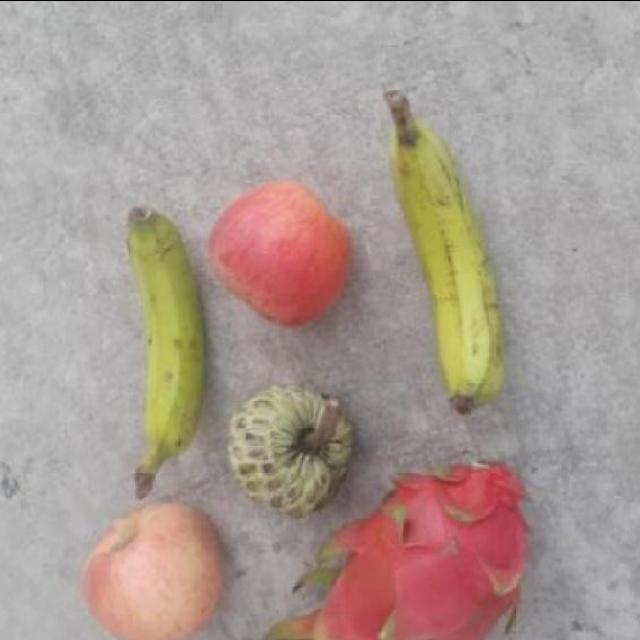apple: (208, 175, 354, 326), (78, 500, 222, 640)
banana: (381, 87, 508, 414), (118, 206, 208, 504)
dragon fruit: (306, 458, 532, 640)
sugar apple: (229, 383, 357, 516)
